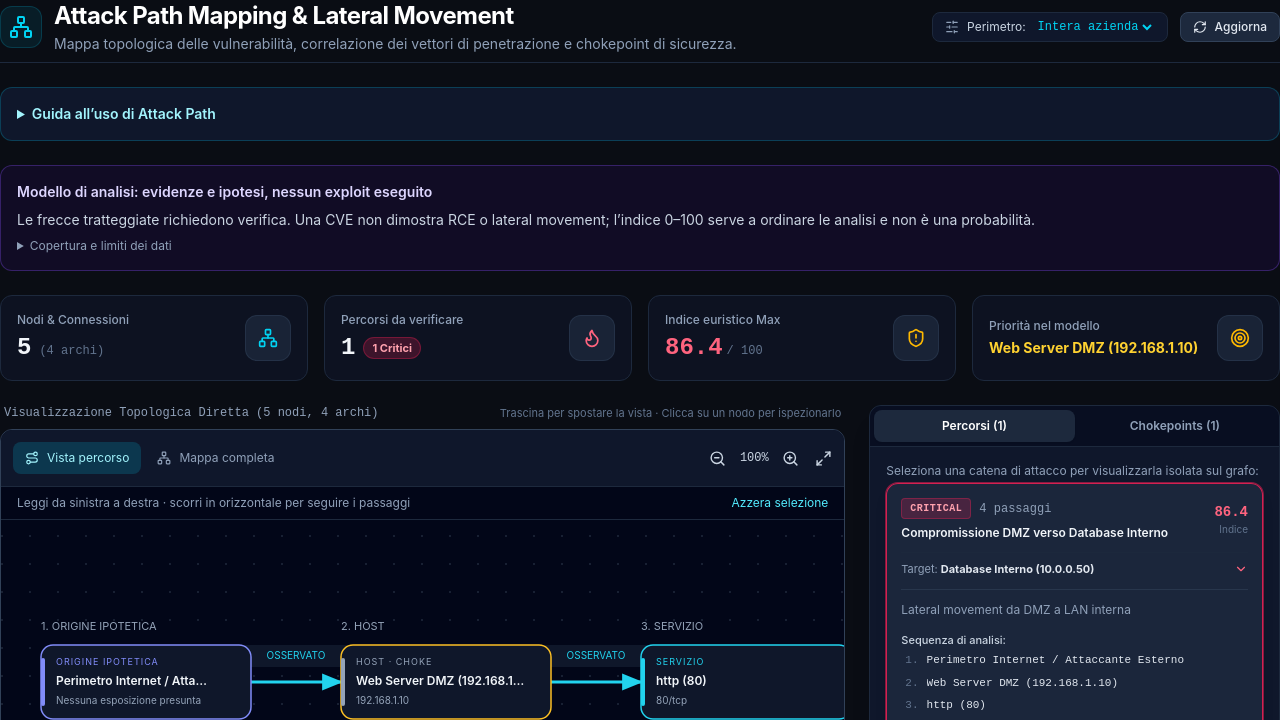
Scenario: AttackPath Page - Visual Graph Explorer & Chokepoints › limita il grafo al reparto e non usa fallback quando il reparto è vuoto
The width and height of the screenshot is (1280, 720).
Expected: the text "Percorsi (1)" is shown, [942,418,1007,434]
Select "IT" in the dropdown named "Reparto Attack Path" at (1094, 27), box [1034,19,1155,35]
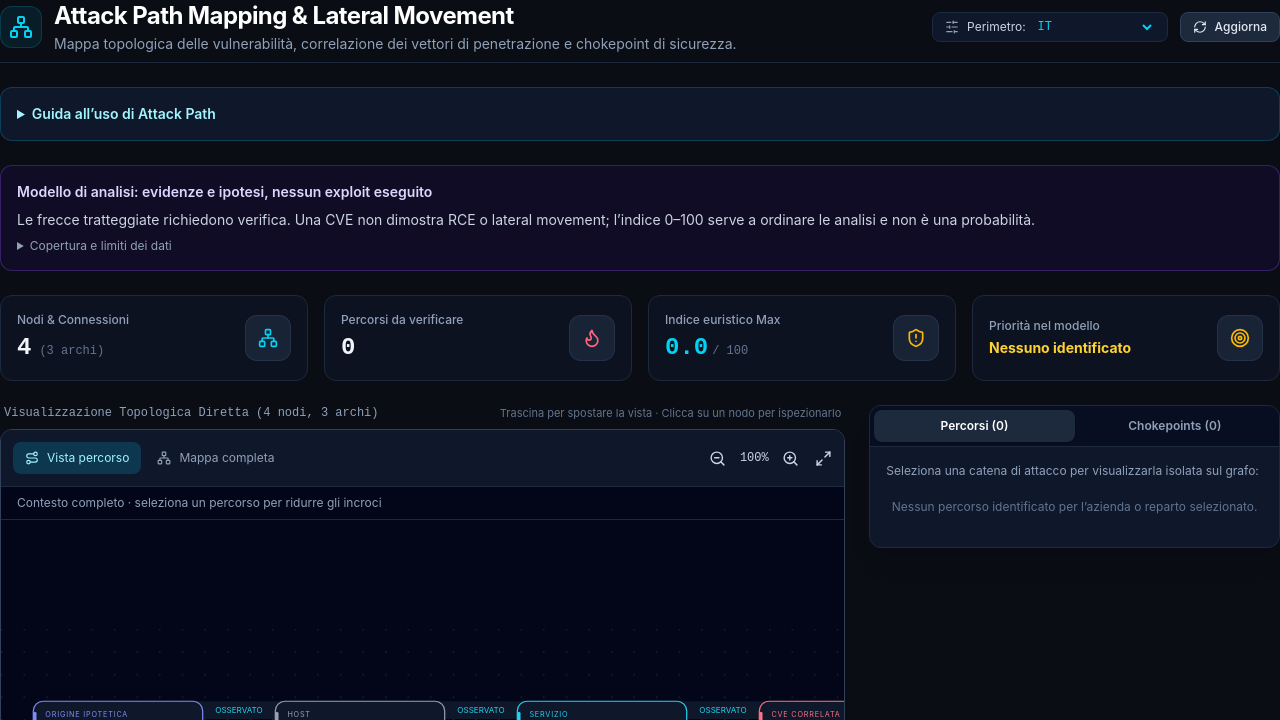
Expected: the text "Percorsi (0)" is shown, [940,418,1008,434]
Select "Vuoto" in the dropdown named "Reparto Attack Path" at (1094, 27), box [1034,19,1155,35]
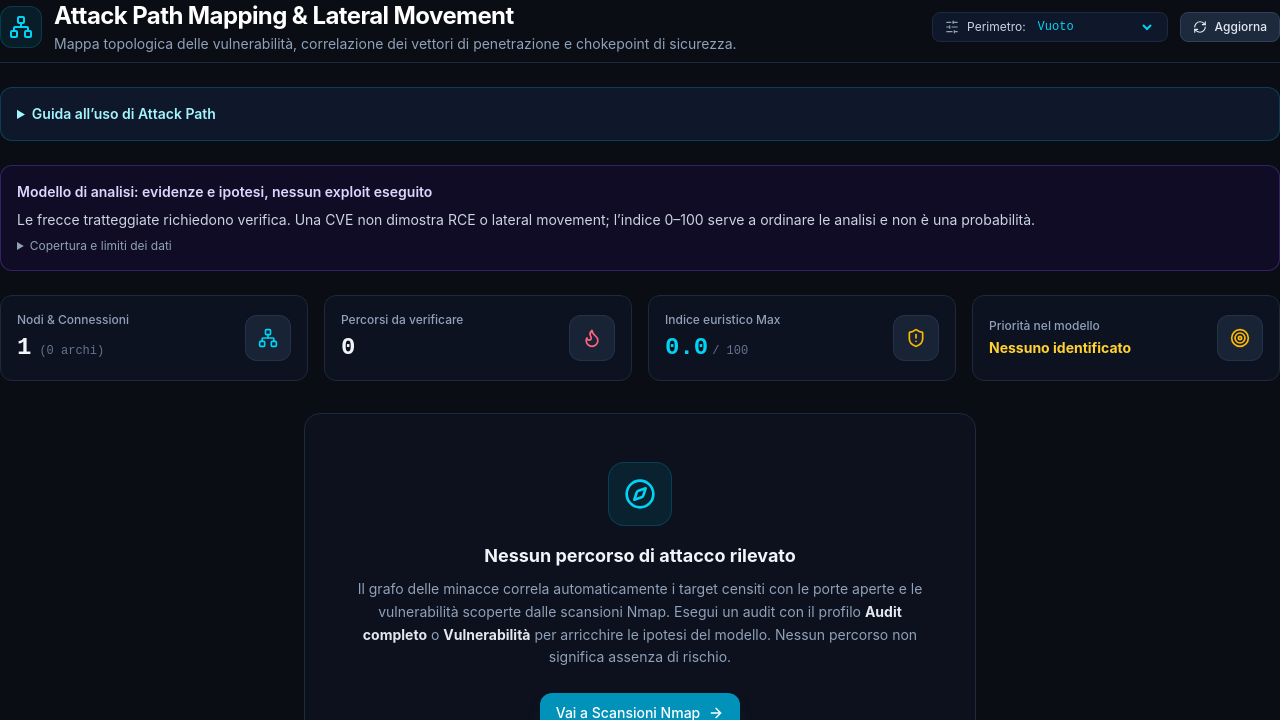
Expected: the heading "Nessun percorso di attacco rilevato" is shown, [484,542,796,570]
